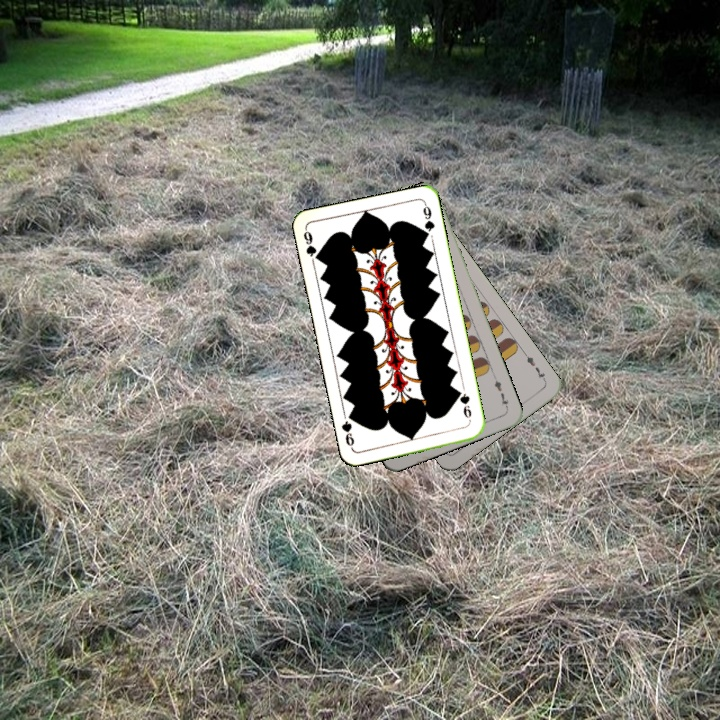E7: (520, 349, 549, 385), (490, 373, 511, 412)
G9: (299, 225, 323, 264), (454, 386, 474, 425)
